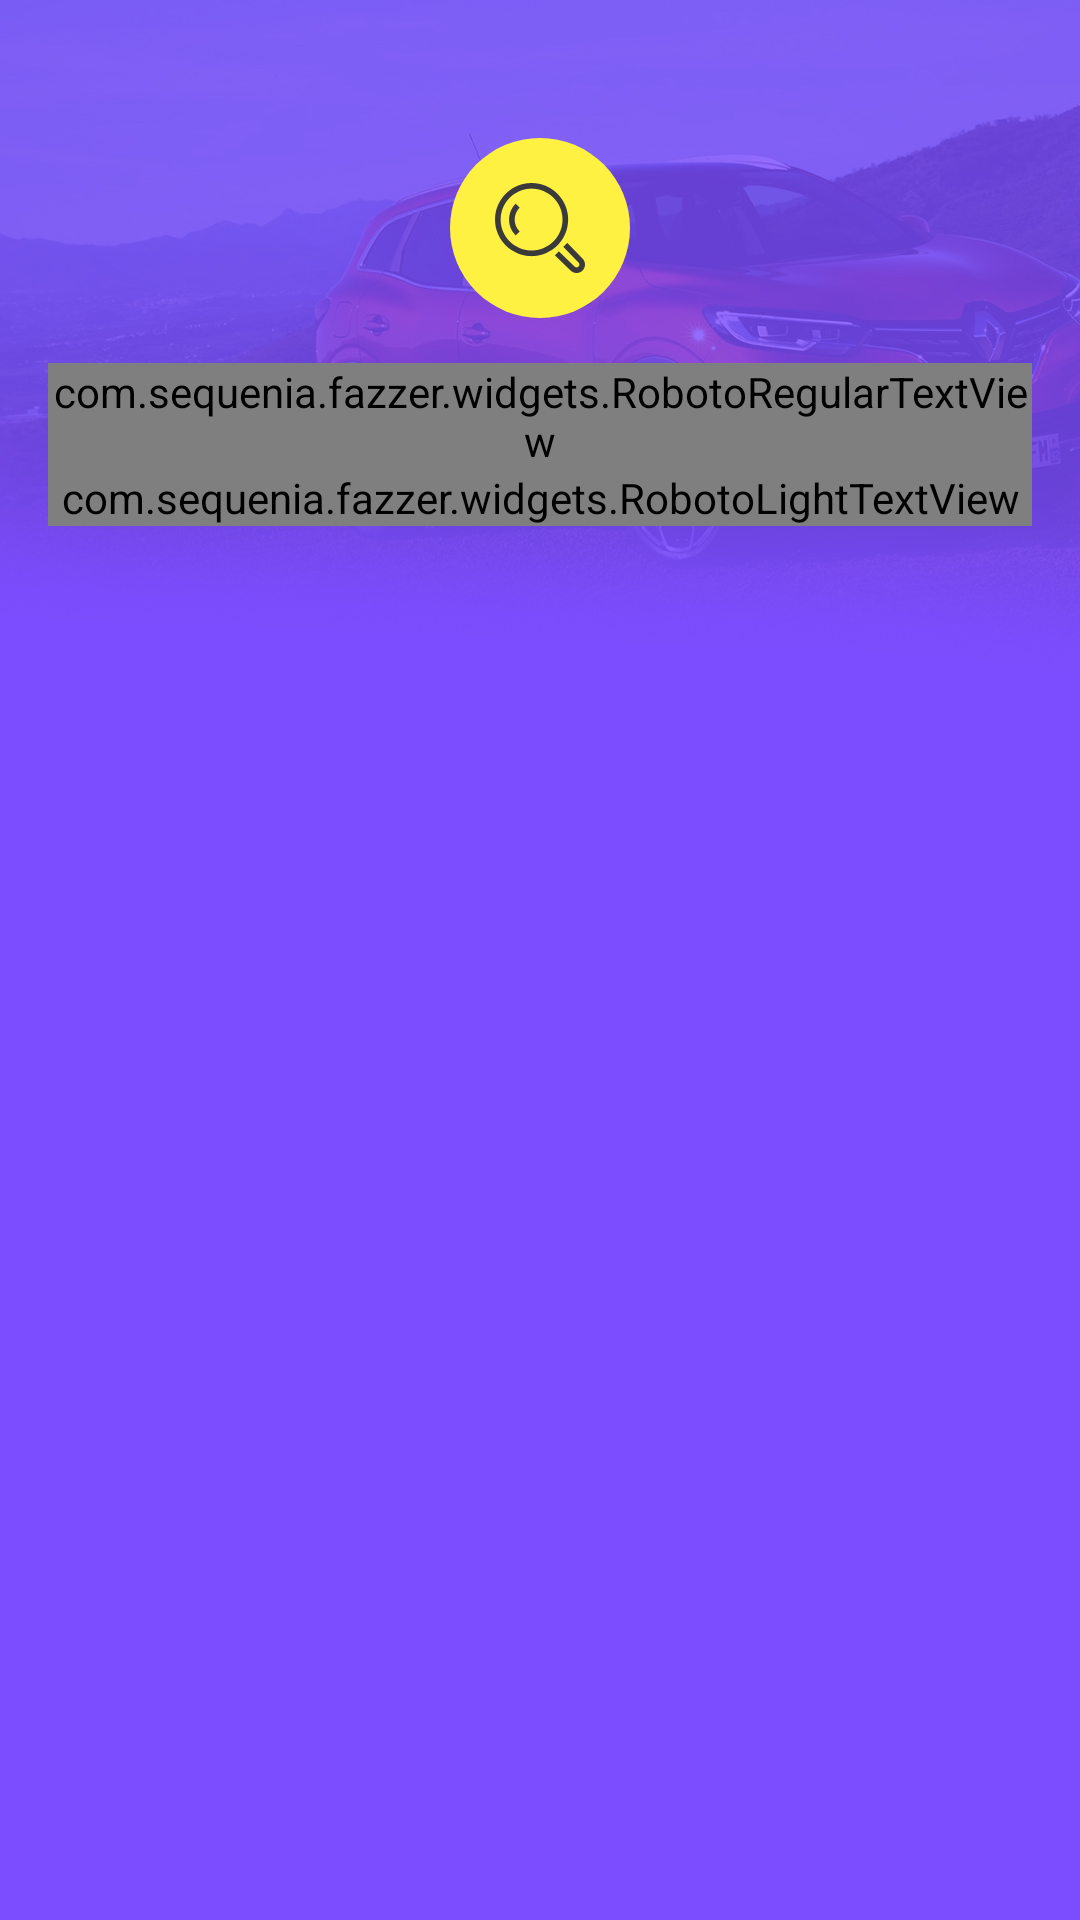

Icon click points for this 1080px x 1920px phone screenshot, format point (x, y):
search: point (540, 228)
